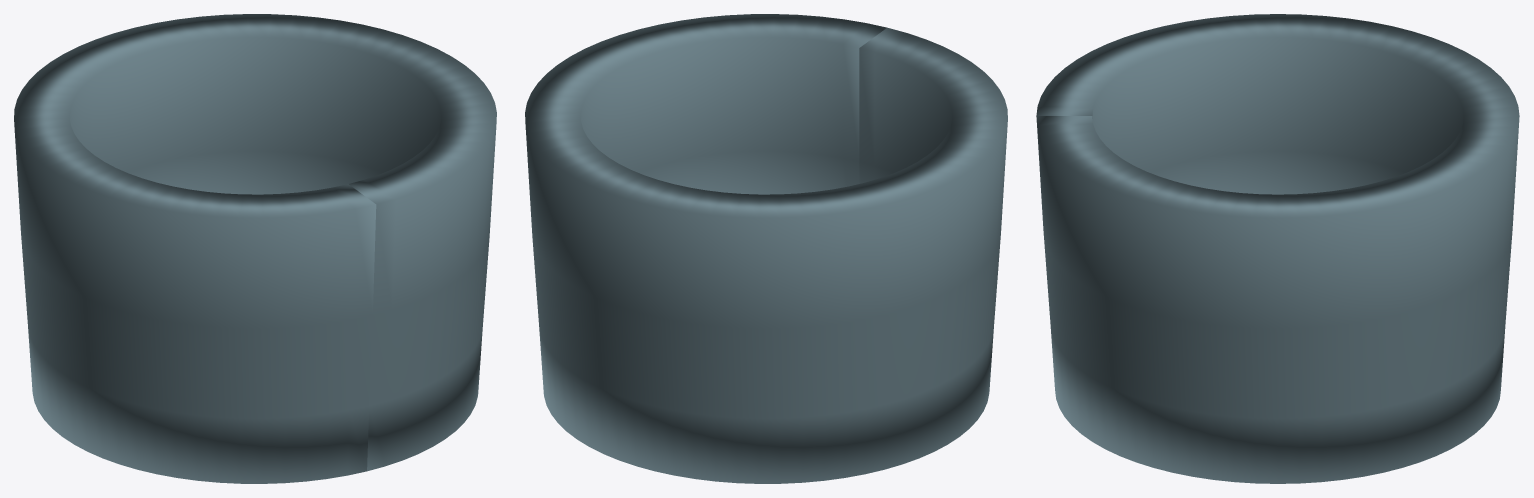
The model's file is smooth-vessel-v1.glb.
The picture shows the model from 3 angles, left to right: view 1: azimuth 30°, elevation 25°; view 2: azimuth 150°, elevation 25°; view 3: azimuth 270°, elevation 25°; orthographic projection.
Visible parts, largest first — view 1: smooth-vessel-v1; view 2: smooth-vessel-v1; view 3: smooth-vessel-v1.
Part boxes in pixels (bbox=[...]): smooth-vessel-v1: bbox=[14, 14, 496, 483]; smooth-vessel-v1: bbox=[525, 14, 1007, 483]; smooth-vessel-v1: bbox=[1036, 14, 1519, 483].
Size of the model in its own units: 1.04 by 0.65 by 1.04.
